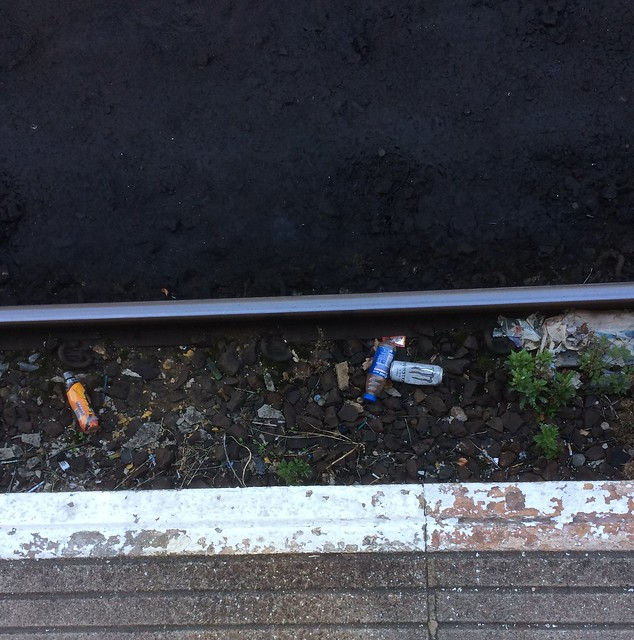bottle: (56, 362, 105, 433), (360, 338, 393, 401)
can: (388, 358, 449, 387)
